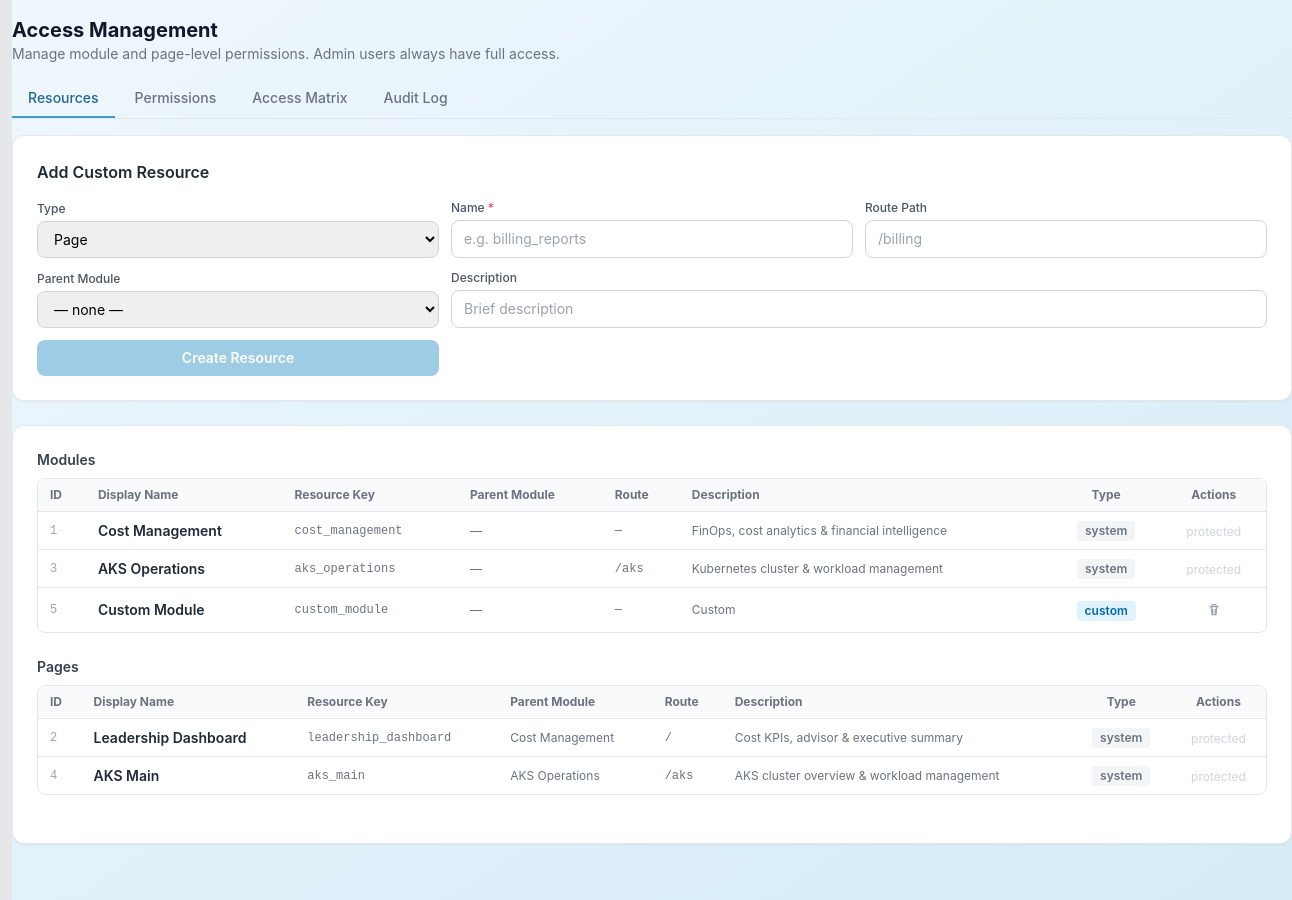
Tab navigation › switches to Permissions tab
Click the button "Permissions": click(175, 99) [118,80,232,118]
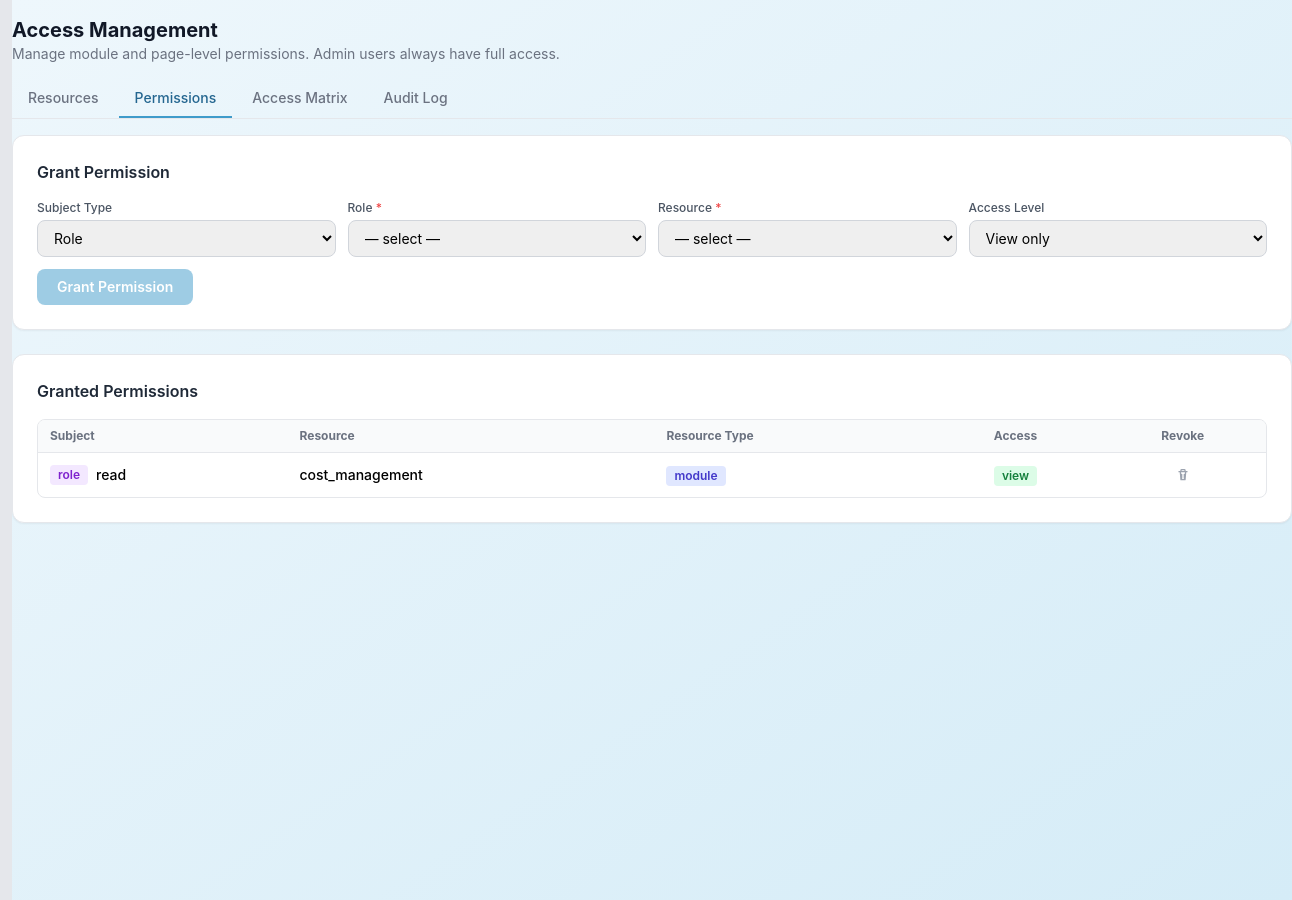
Expected: the heading "Grant Permission" is shown, [37,162,170,182]
